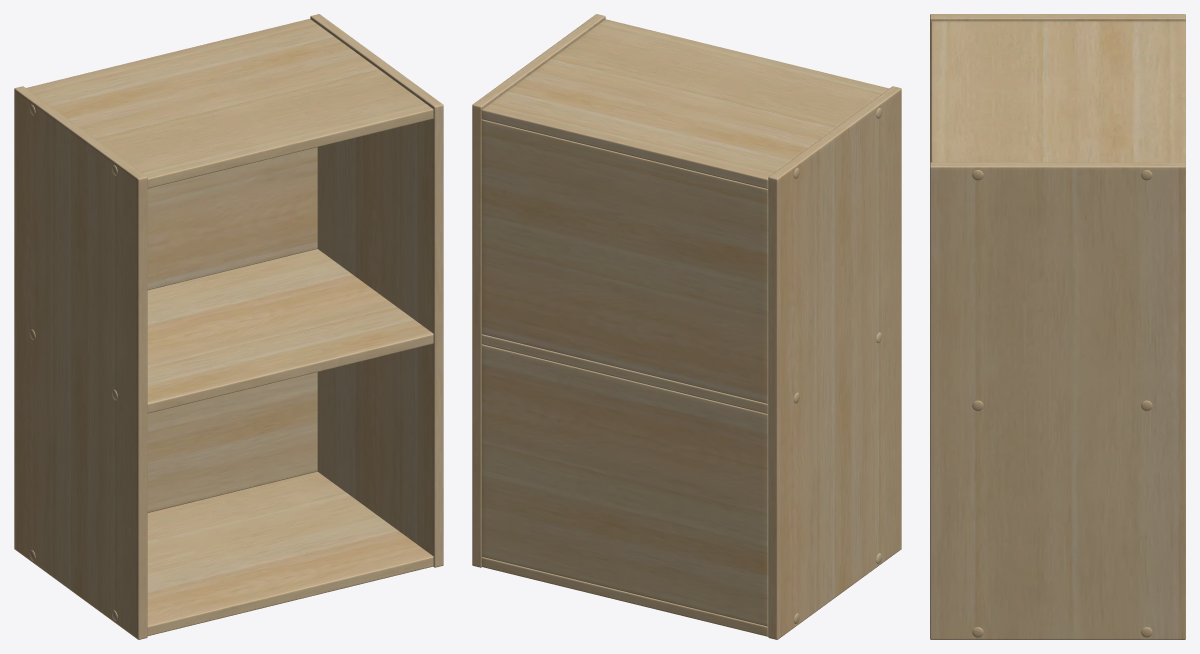
The model's file is abo-B07TX2D4XN.glb.
3 views of the same model, side by side, from view 1: azimuth 30°, elevation 25°; view 2: azimuth 150°, elevation 25°; view 3: azimuth 270°, elevation 25° (orthographic). The views are drawn at different scales.
Size of the model in its own units: 0.414 by 0.592 by 0.29.
1 material, 1 textured.
